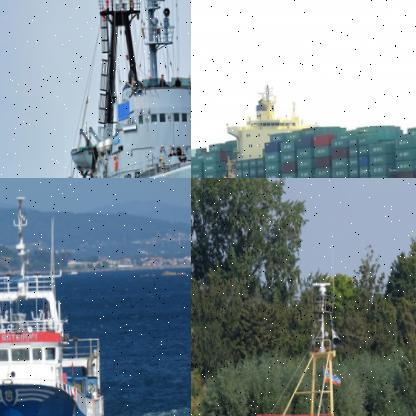Fishing Boat: (243, 275, 415, 415), (0, 192, 107, 415)
Merchant Ship: (191, 75, 415, 177)
Military Ship: (35, 0, 190, 177)
